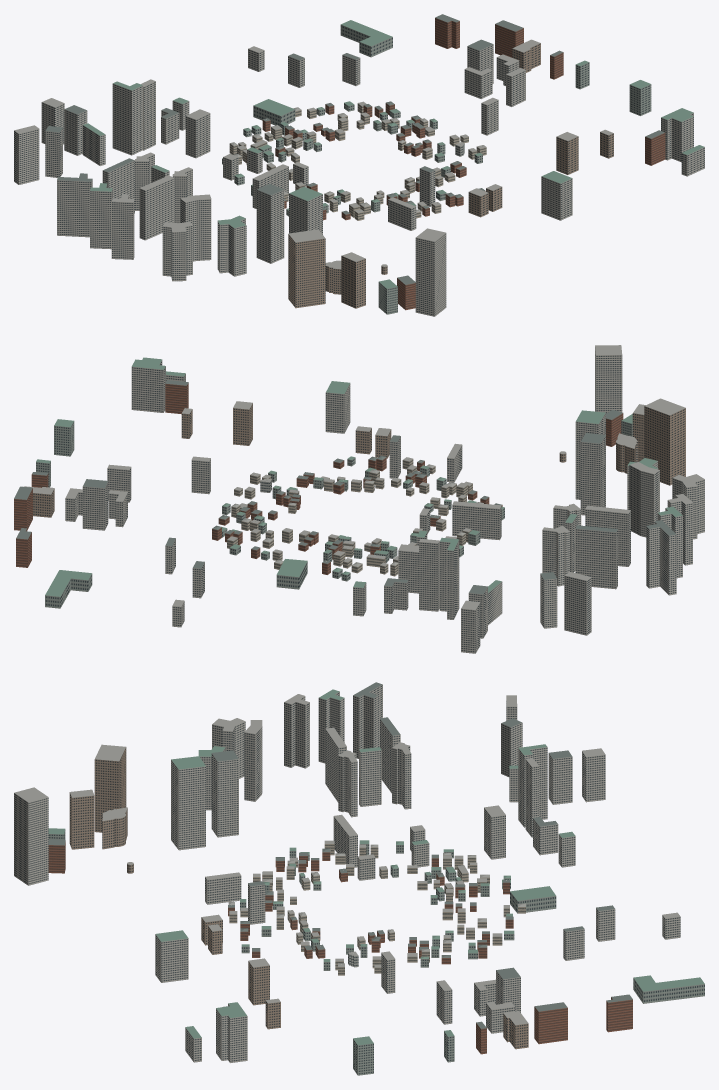
3 views of the same model, one above another, from view 1: azimuth 30°, elevation 25°; view 2: azimuth 150°, elevation 25°; view 3: azimuth 270°, elevation 25° (orthographic). The views are drawn at different scales.
Visible parts, largest first — view 1: ctx-apartments, ctx-other, ctx-roof, ctx-brick-estimate, ctx-cool-estimate, ctx-roof-green-estimate, ctx-house, ctx-roof-dark-estimate; view 2: ctx-apartments, ctx-other, ctx-roof, ctx-brick-estimate, ctx-cool-estimate, ctx-house, ctx-roof-green-estimate, ctx-roof-dark-estimate; view 3: ctx-apartments, ctx-other, ctx-roof, ctx-brick-estimate, ctx-cool-estimate, ctx-roof-green-estimate, ctx-house, ctx-roof-dark-estimate.
Boxes of the visible parts, left/top/right/bottom form: ctx-apartments: left=14, top=44, right=704, bottom=316; ctx-other: left=288, top=43, right=613, bottom=308; ctx-roof: left=14, top=39, right=613, bottom=269; ctx-brick-estimate: left=246, top=18, right=665, bottom=310; ctx-cool-estimate: left=222, top=25, right=651, bottom=314; ctx-roof-green-estimate: left=83, top=20, right=704, bottom=288; ctx-house: left=229, top=103, right=486, bottom=220; ctx-roof-dark-estimate: left=45, top=14, right=664, bottom=284; ctx-apartments: left=65, top=347, right=704, bottom=653; ctx-other: left=33, top=403, right=685, bottom=517; ctx-roof: left=24, top=345, right=704, bottom=609; ctx-brick-estimate: left=14, top=383, right=623, bottom=574; ctx-cool-estimate: left=36, top=421, right=632, bottom=608; ctx-house: left=227, top=459, right=483, bottom=576; ctx-roof-green-estimate: left=36, top=357, right=682, bottom=596; ctx-roof-dark-estimate: left=14, top=380, right=676, bottom=594; ctx-apartments: left=14, top=684, right=680, bottom=1062; ctx-other: left=69, top=747, right=528, bottom=1049; ctx-roof: left=14, top=694, right=680, bottom=1025; ctx-brick-estimate: left=48, top=841, right=632, bottom=1054; ctx-cool-estimate: left=48, top=829, right=704, bottom=1075; ctx-roof-green-estimate: left=48, top=689, right=704, bottom=1045; ctx-house: left=229, top=844, right=525, bottom=975; ctx-roof-dark-estimate: left=48, top=682, right=632, bottom=1028.
Size of the model in its own units: 939 by 120 by 863.
Materials: 10 (6 with a texture image).
